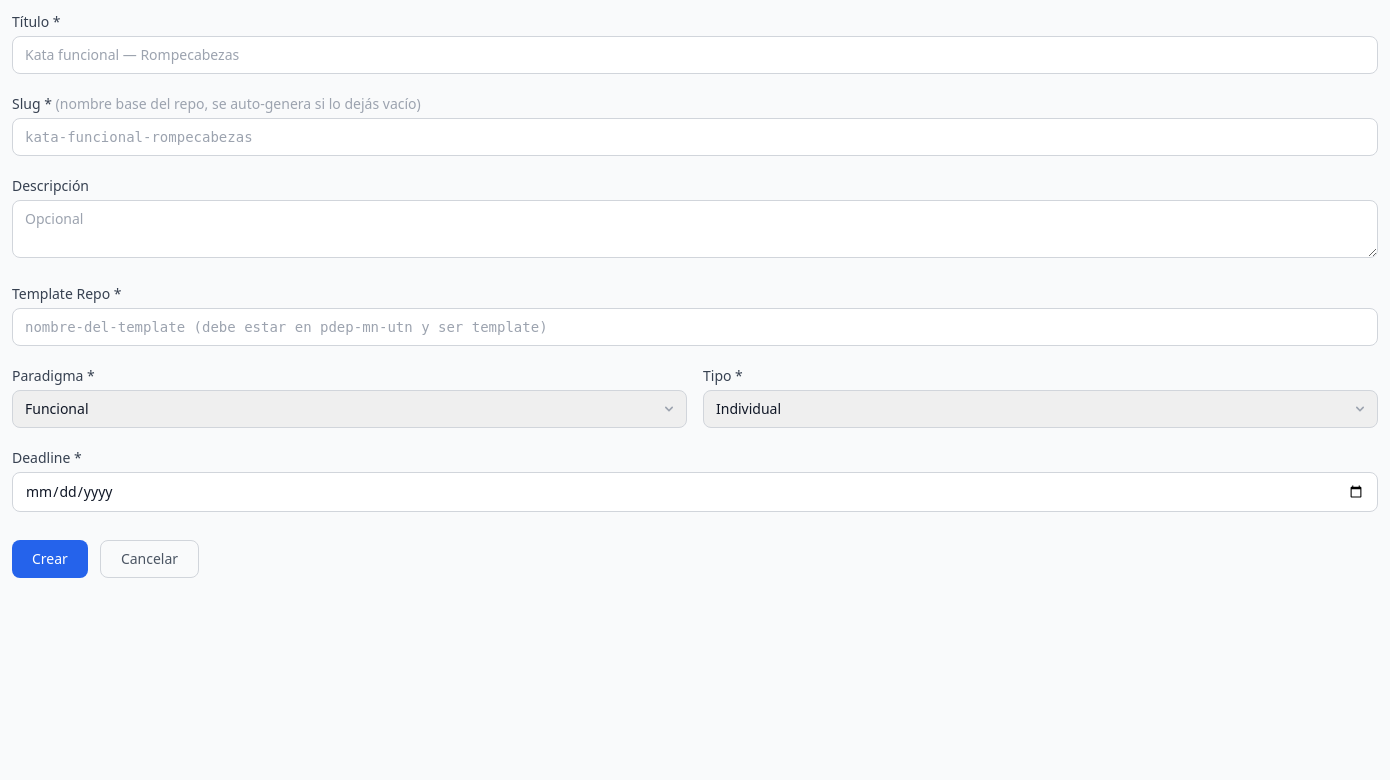
Test: AssignmentForm › campo maxIntegrantes (tipo grupal) › muestra maxIntegrantes al cambiar tipo a 'grupal'
Step 1. Select "Grupal" in the dropdown named "tipo" below "Tipo *" → (1040, 409), box left=703, top=390, right=1378, bottom=428
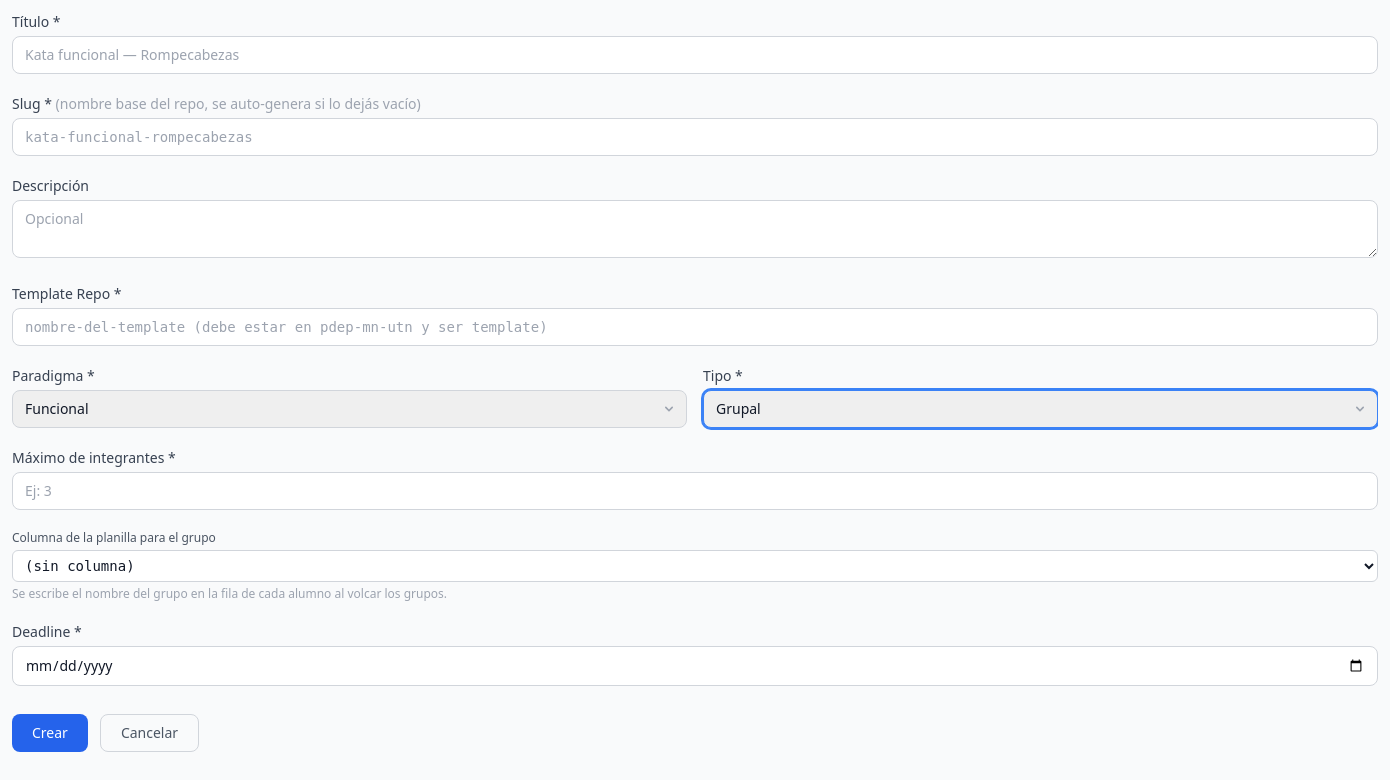
Now the number field named "maxIntegrantes" is shown, box left=12, top=472, right=1378, bottom=510
